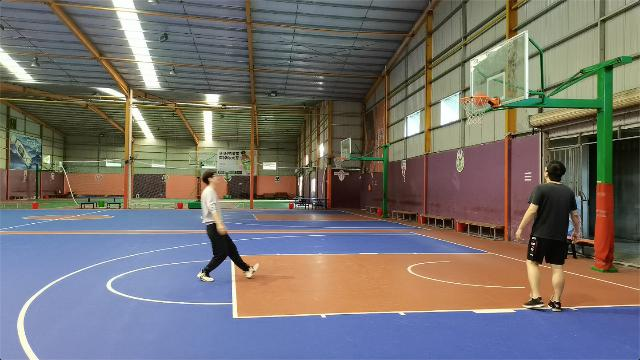basket: (460, 94, 490, 127)
goal: (470, 91, 488, 106)
